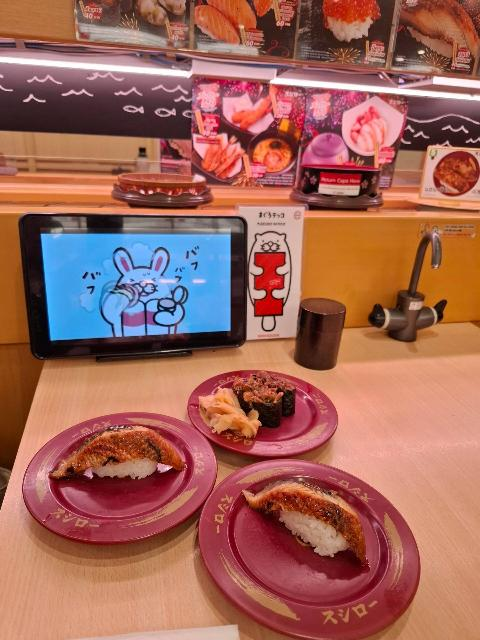janred: (15, 357, 191, 520), (238, 486, 419, 622), (200, 377, 359, 474), (115, 171, 213, 206)
